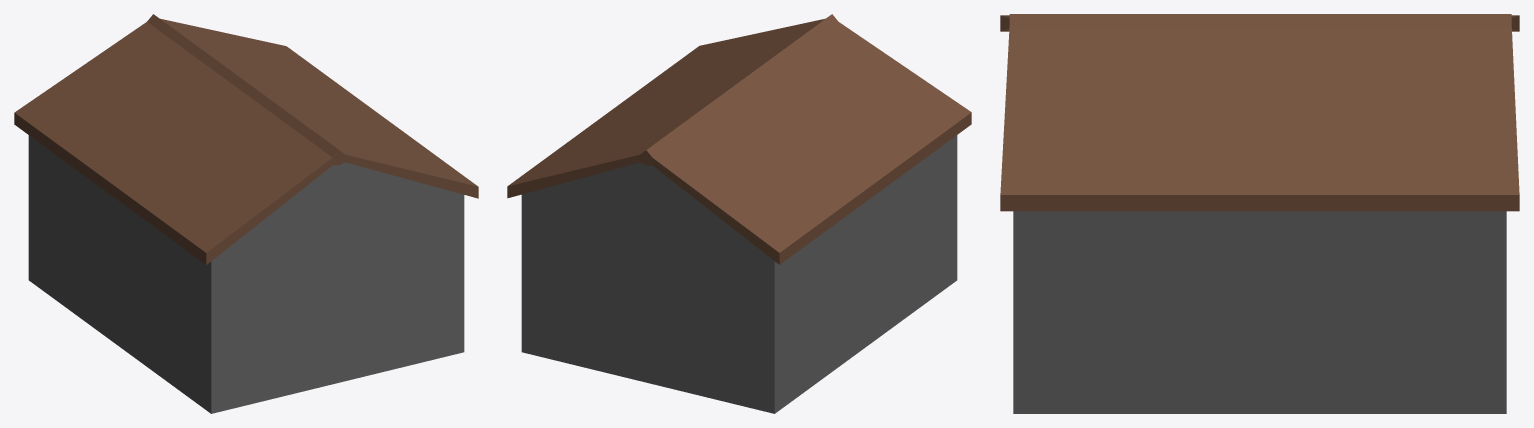
Rendered from Room09.fbx.
3 renders of one model, left to right at view 1: azimuth 30°, elevation 25°; view 2: azimuth 150°, elevation 25°; view 3: azimuth 270°, elevation 25°, orthographic. The views are drawn at different scales.
Parts seen in each view (by area): view 1: Room09; view 2: Room09; view 3: Room09.
Part boxes in pixels (x1,y1,x2,y2): Room09: (14,14,478,413); Room09: (507,14,971,413); Room09: (1000,14,1519,413).
Size of the model in its own units: 430 by 354 by 526.
